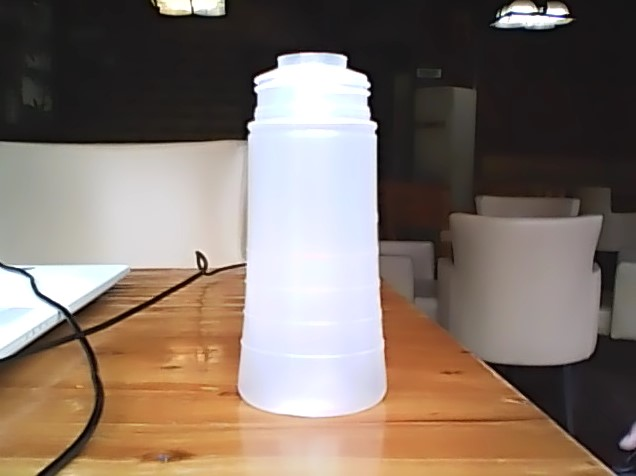Plastic: (231, 52, 392, 422)
